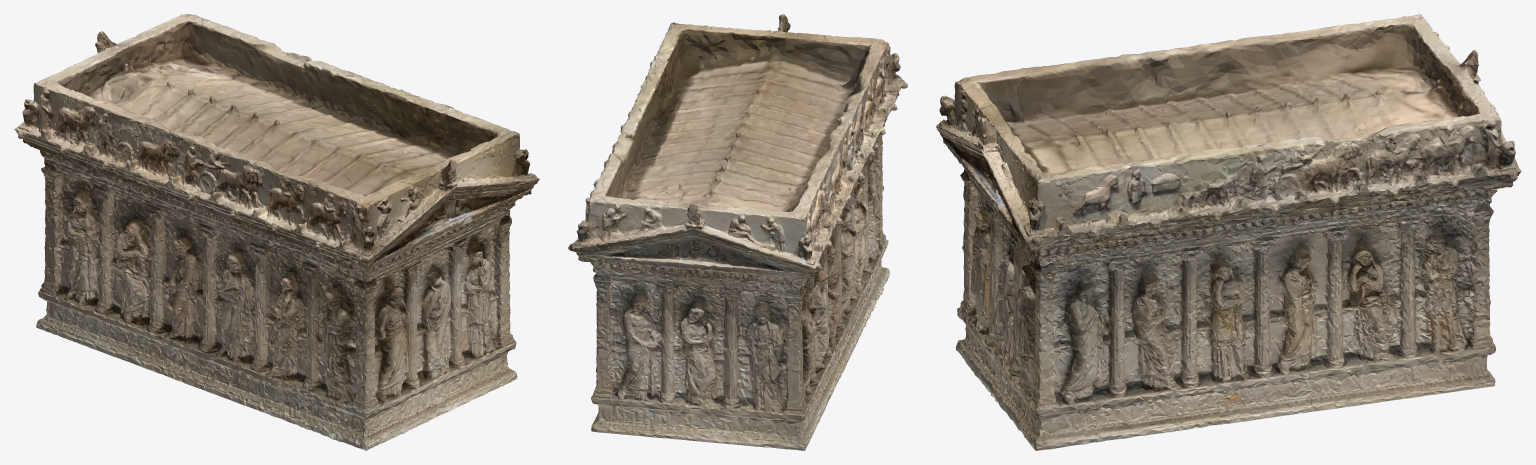
File: sarcophagus.glb
3 renders of one model, left to right at view 1: azimuth 30°, elevation 25°; view 2: azimuth 150°, elevation 25°; view 3: azimuth 270°, elevation 25°, orthographic. The views are drawn at different scales.
Parts seen in each view (by area): view 1: Object_2, Object_3, Object_4; view 2: Object_3, Object_2, Object_4; view 3: Object_3, Object_2, Object_4.
Boxes of the visible parts, x1=… form: Object_2: x1=14, y1=22, x2=539, y2=443; Object_3: x1=20, y1=14, x2=516, y2=450; Object_4: x1=70, y1=42, x2=514, y2=361; Object_3: x1=568, y1=15, x2=892, y2=438; Object_2: x1=581, y1=14, x2=907, y2=450; Object_4: x1=620, y1=74, x2=855, y2=305; Object_3: x1=936, y1=14, x2=1521, y2=449; Object_2: x1=937, y1=15, x2=1505, y2=450; Object_4: x1=1015, y1=38, x2=1464, y2=409.
Bounding box in the file's own units: 2.76 × 1.96 × 3.65.
Materials: 1 (1 with a texture image).
